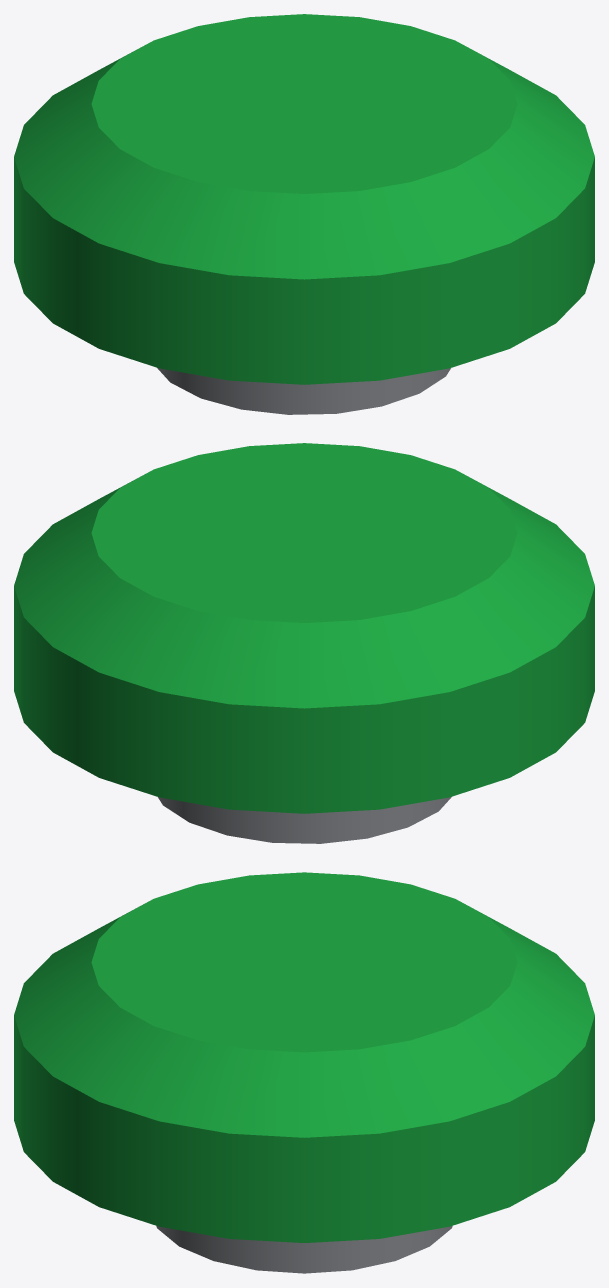
File: ControlBoard_StartButton.obj
3 views of the same model, one above another, from view 1: azimuth 30°, elevation 25°; view 2: azimuth 150°, elevation 25°; view 3: azimuth 270°, elevation 25° (orthographic).
Visible parts, largest first — view 1: StartButton; view 2: StartButton; view 3: StartButton.
Boxes of the visible parts, x1,y1,x2,y2 form: StartButton: (14, 14, 594, 414); StartButton: (14, 443, 594, 843); StartButton: (14, 872, 594, 1273).
Bounding box in the file's own units: 0.06 × 0.028 × 0.06.
